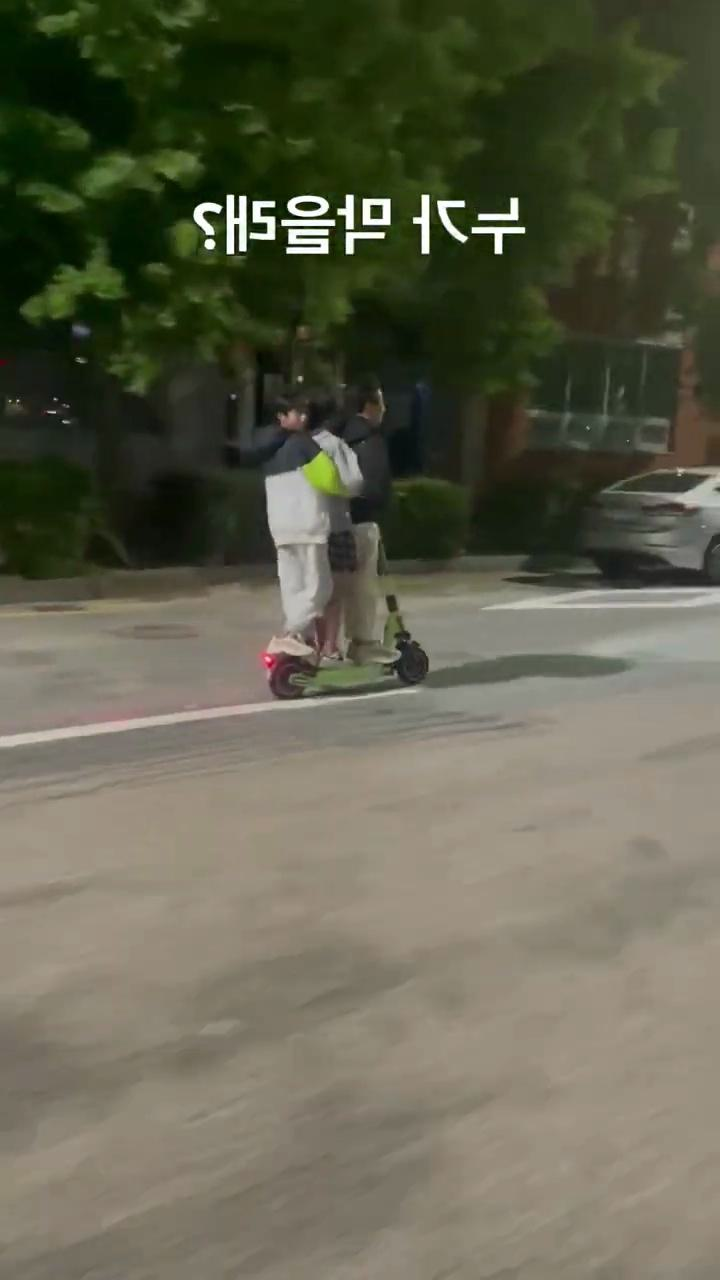multiple: (240, 372, 436, 697)
